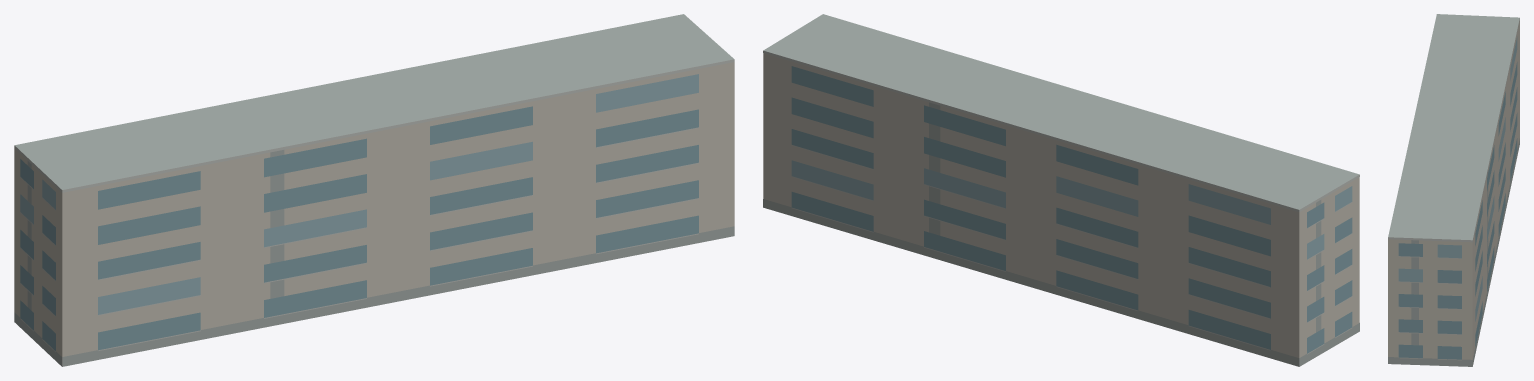
Rendered from survey-upis-32782541.glb.
3 renders of one model, left to right at view 1: azimuth 30°, elevation 25°; view 2: azimuth 150°, elevation 25°; view 3: azimuth 270°, elevation 25°, orthographic. The views are drawn at different scales.
Visible parts, largest first — view 1: survey-upis-32782541.tmp; view 2: survey-upis-32782541.tmp; view 3: survey-upis-32782541.tmp.
Boxes of the visible parts, box(x1,y1,x2,y2) form: survey-upis-32782541.tmp: box(14, 14, 734, 366); survey-upis-32782541.tmp: box(763, 14, 1359, 366); survey-upis-32782541.tmp: box(1388, 14, 1519, 366).
Bounding box in the file's own units: 58.39 × 15.25 × 14.39.
